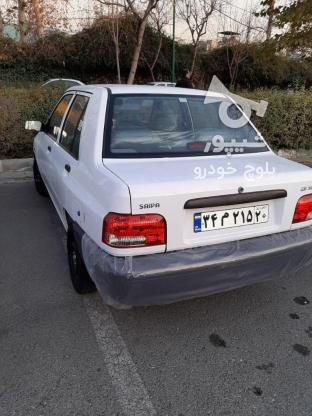car: (191, 204, 270, 234)
